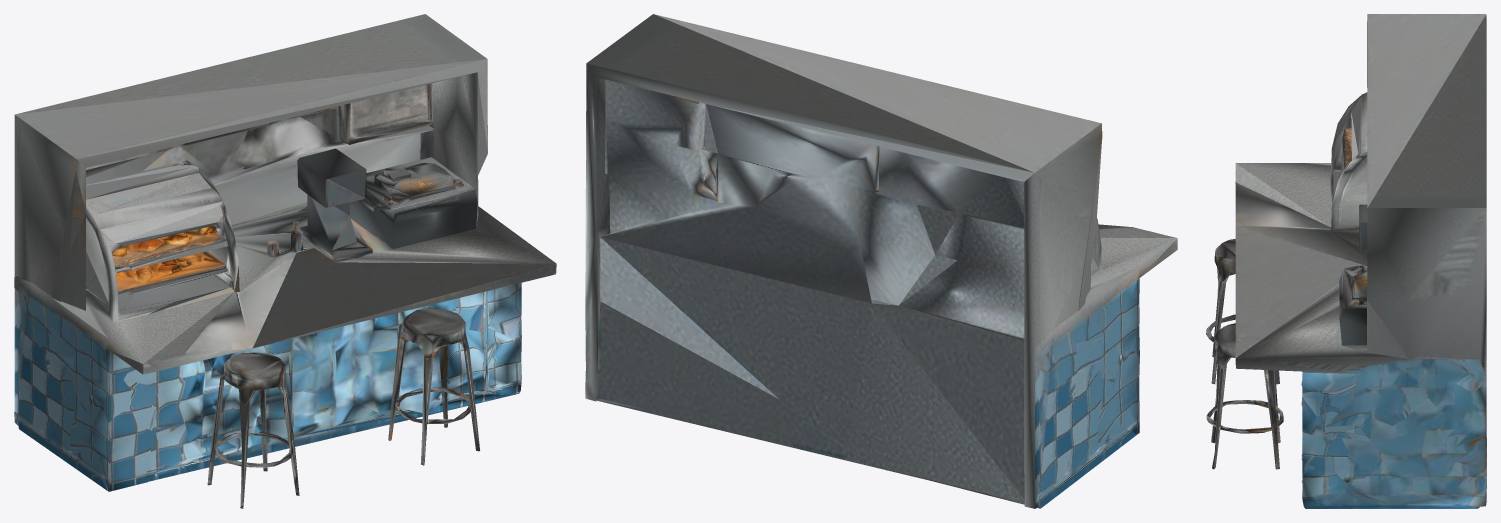
Rendered from fv_bar_counter.glb.
3 views of the same model, side by side, from view 1: azimuth 30°, elevation 25°; view 2: azimuth 150°, elevation 25°; view 3: azimuth 270°, elevation 25° (orthographic). The views are drawn at different scales.
Parts seen in each view (by area): view 1: fv_bar_counter; view 2: fv_bar_counter; view 3: fv_bar_counter.
Part boxes in pixels (<box>): fv_bar_counter: <box>14,14,556,508</box>; fv_bar_counter: <box>585,14,1177,508</box>; fv_bar_counter: <box>1206,14,1486,508</box>.
Size of the model in its own units: 3.2 by 2.31 by 1.94.
1 material, 1 textured.
